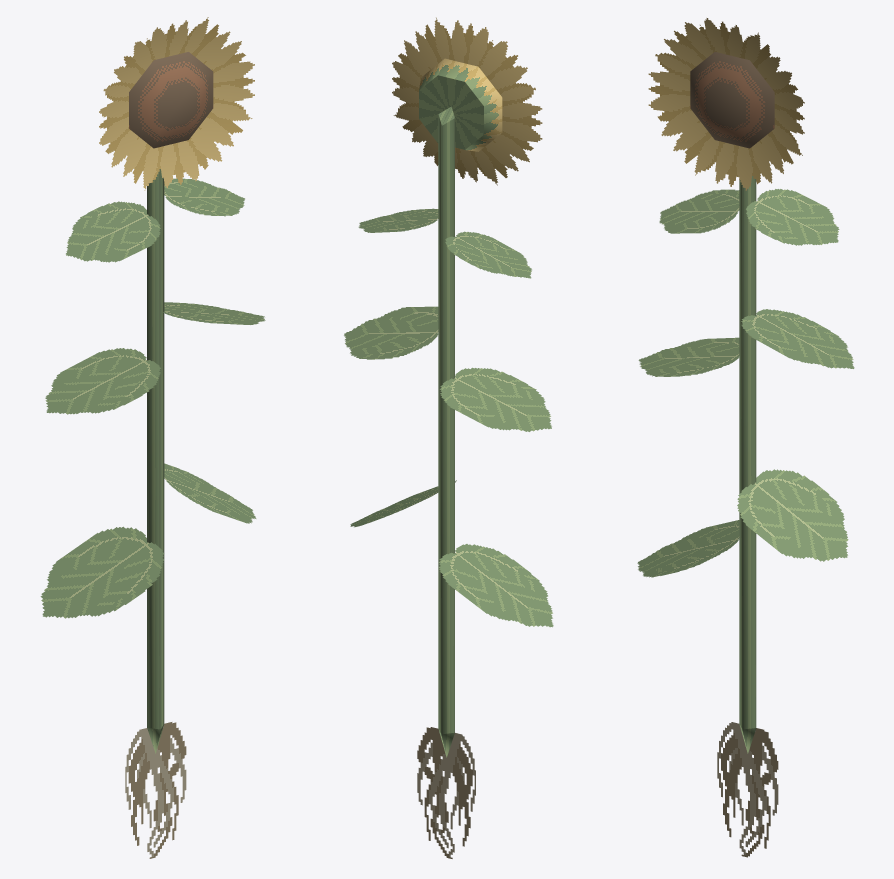
The model's file is 02c5_Sunflower.glb.
3 views of the same model, side by side, from view 1: azimuth 30°, elevation 25°; view 2: azimuth 150°, elevation 25°; view 3: azimuth 330°, elevation 25° (orthographic). The views are drawn at different scales.
Visible parts, largest first — view 1: part_0; view 2: part_0; view 3: part_0.
Boxes of the visible parts, <box> form: part_0: <box>40,17,265,858</box>; part_0: <box>344,17,553,858</box>; part_0: <box>637,18,854,857</box>.
Bounding box in the file's own units: 0.647 × 2.41 × 0.3096.
1 material, 1 textured.
